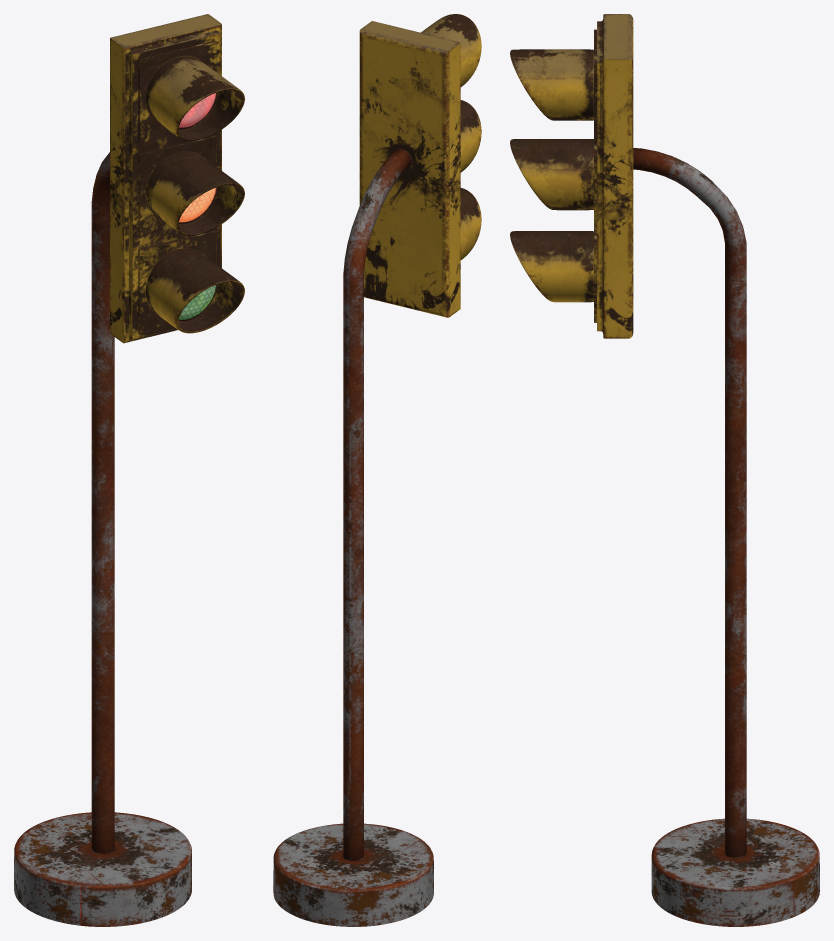
Rendered from TrafficLights.glb.
The picture shows the model from 3 angles, left to right: view 1: azimuth 30°, elevation 25°; view 2: azimuth 150°, elevation 25°; view 3: azimuth 270°, elevation 25°; orthographic projection. The views are drawn at different scales.
Visible parts, largest first — view 1: wTube.007; view 2: wTube.007; view 3: wTube.007.
Part boxes in pixels (<box>): wTube.007: <box>14,14,244,926</box>; wTube.007: <box>273,14,481,926</box>; wTube.007: <box>510,14,819,926</box>.
Size of the model in its own units: 1.06 by 5.92 by 1.94.
1 material, 1 textured.
